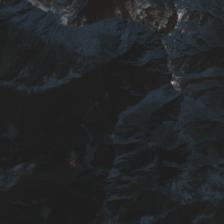landslides: (81, 34, 92, 70)
